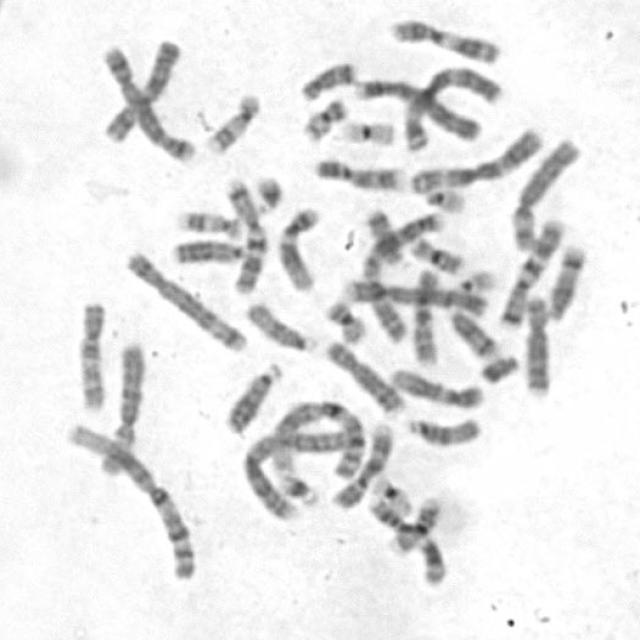A1: (58, 415, 201, 583), (265, 393, 369, 478)
A2: (235, 419, 365, 521), (358, 202, 450, 344)
A3: (404, 121, 547, 194), (399, 60, 505, 154)
B4: (347, 72, 483, 142), (337, 272, 490, 318)
B5: (120, 244, 250, 353), (98, 38, 198, 164)
C10: (70, 294, 110, 413), (407, 263, 443, 367)
C11: (363, 490, 449, 587), (384, 13, 505, 64)
C12: (384, 362, 488, 411), (272, 201, 324, 294)
C6: (505, 131, 585, 252), (97, 338, 150, 477)
C7: (490, 212, 567, 331), (218, 173, 269, 296)
C8: (320, 333, 408, 418), (519, 288, 555, 398)
C9: (326, 415, 397, 512), (309, 151, 409, 193)
D13: (220, 356, 286, 435), (167, 232, 249, 266)
D14: (542, 238, 590, 322), (443, 301, 502, 359)
D15: (241, 296, 321, 355), (399, 411, 483, 448)
E16: (384, 491, 446, 557), (405, 231, 469, 276)
E17: (201, 87, 263, 156), (172, 203, 246, 240)
E18: (296, 55, 360, 102), (362, 202, 406, 266)
F19: (334, 113, 398, 148), (366, 470, 414, 516)
F20: (297, 91, 350, 142), (320, 294, 370, 346)
G21: (274, 466, 322, 508), (249, 169, 286, 215)
G22: (420, 181, 468, 215), (451, 263, 499, 295)
X: (99, 35, 182, 145)
Y: (476, 348, 522, 386)
